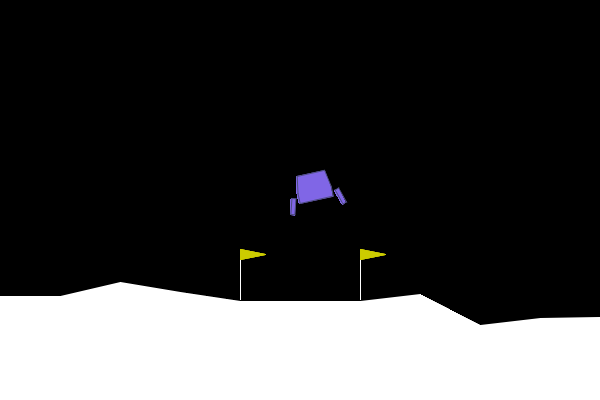lander: (281, 165, 348, 217)
